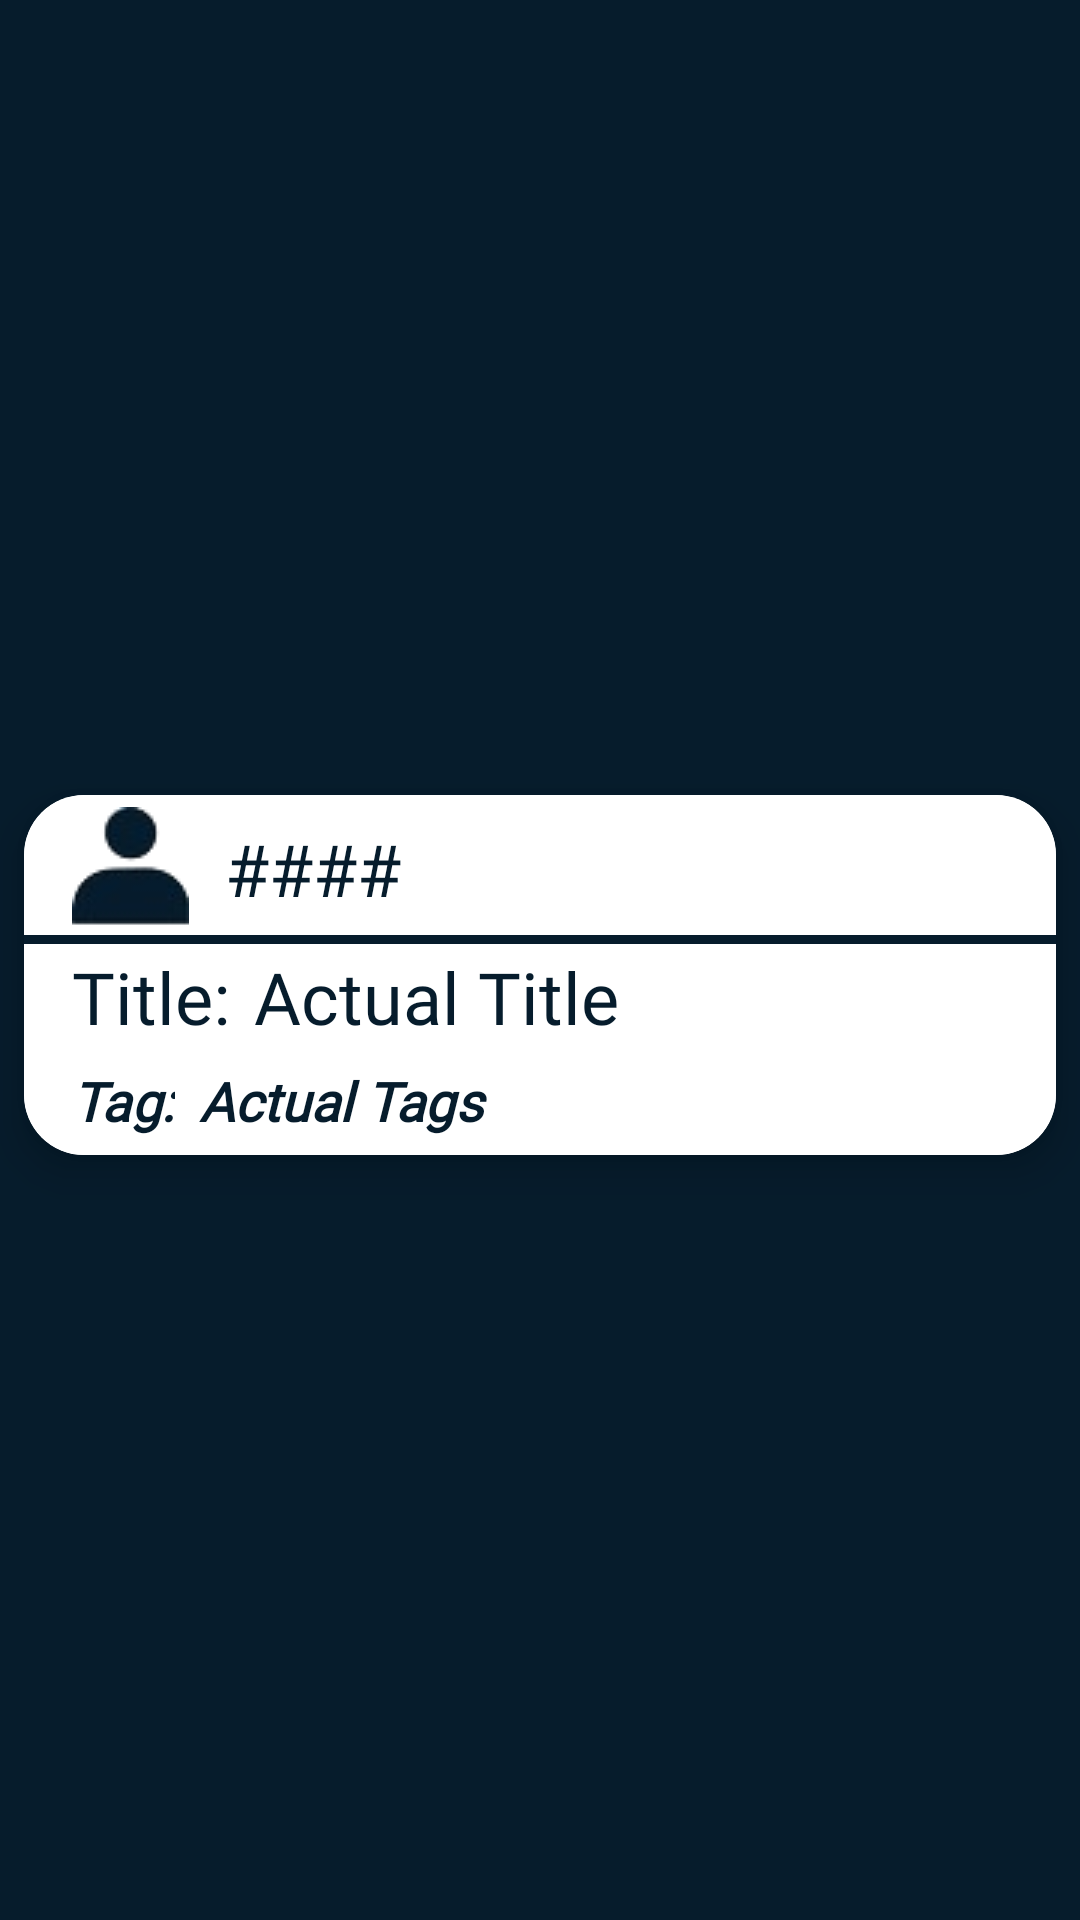

Locate icon controls on the screen. Image size 1080 × 1920, boxes as (x1, y1, x2, y2).
user: (72, 807, 189, 925)
